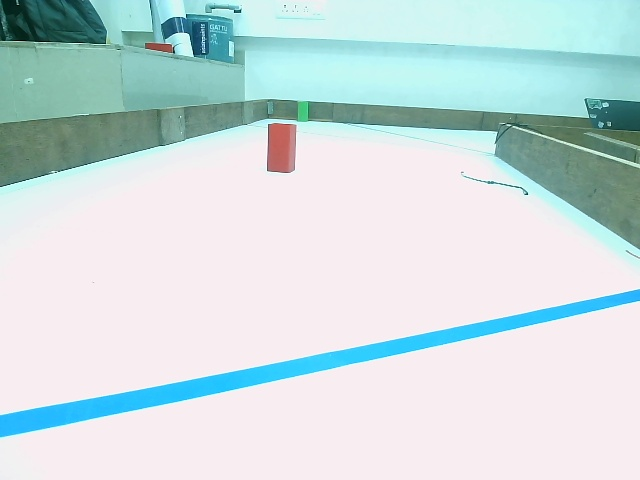red: (270, 125, 294, 175)
